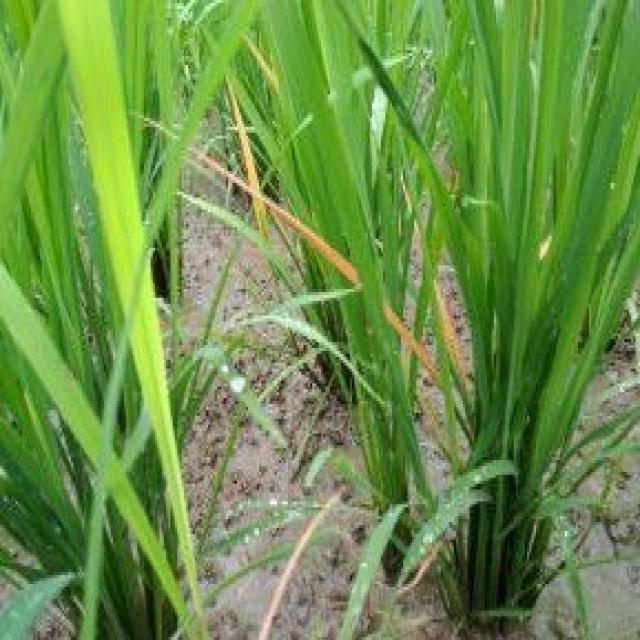Tungro: (201, 74, 344, 287), (384, 290, 478, 422)
